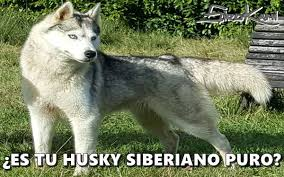husky: (25, 3, 123, 81)
